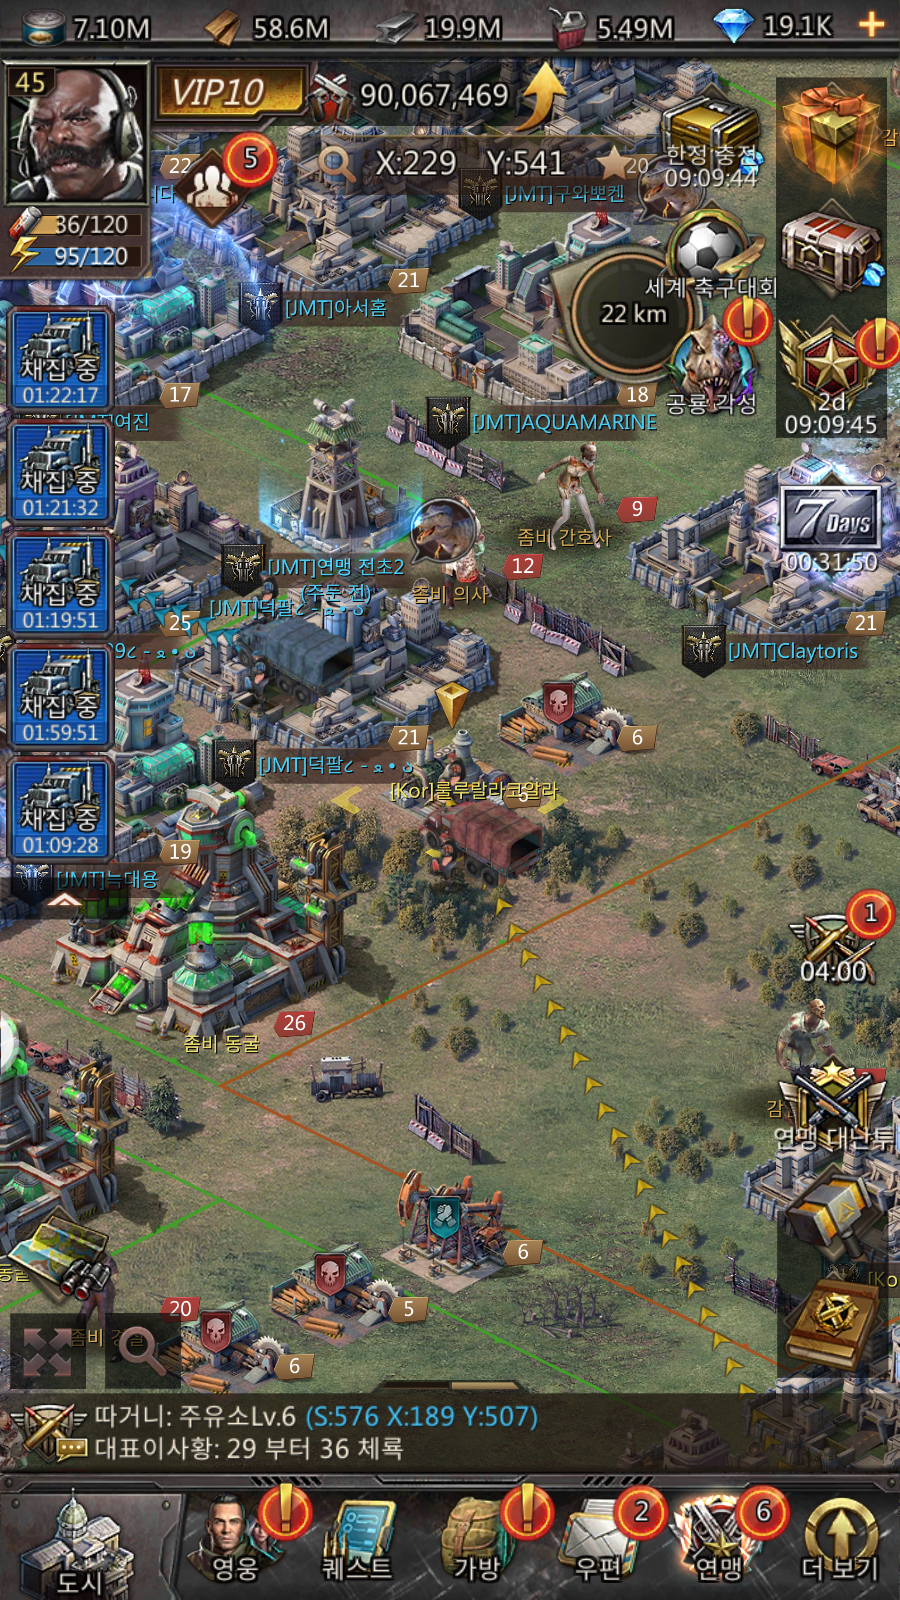city: (4, 1493, 165, 1600)
occupied_steel: (302, 670, 609, 902)
open_panel: (91, 1304, 195, 1400)
troops_cnt_5: (159, 123, 295, 243)
